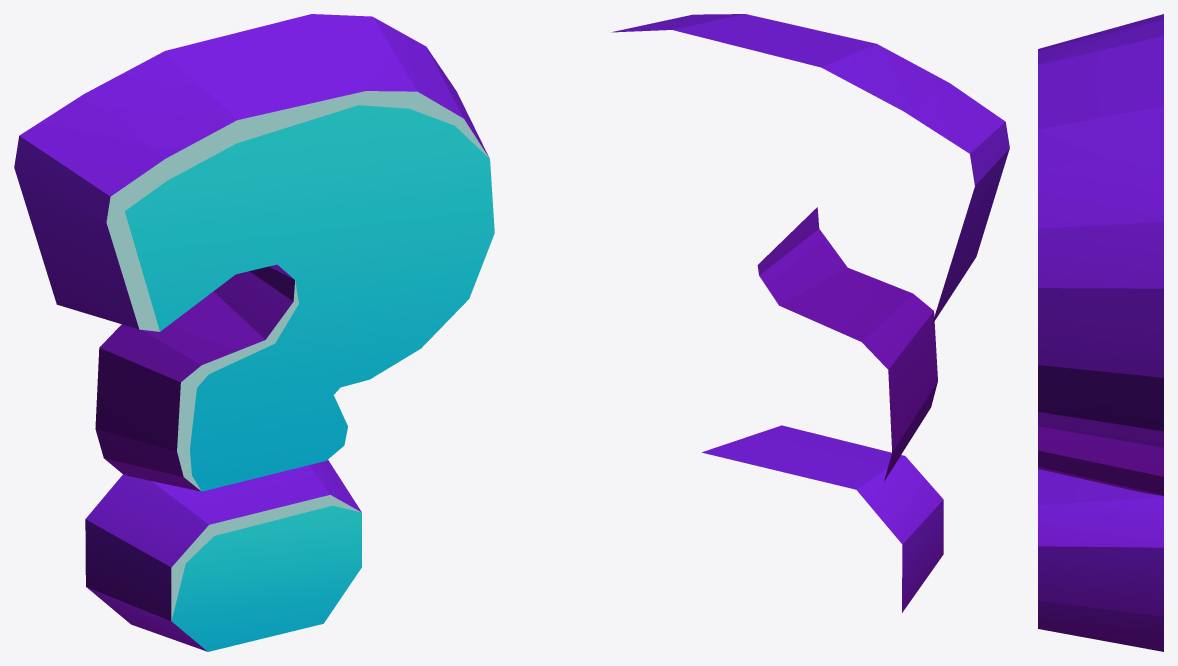
File: QuestionMarkIcon.glb
3 views of the same model, side by side, from view 1: azimuth 30°, elevation 25°; view 2: azimuth 150°, elevation 25°; view 3: azimuth 270°, elevation 25° (orthographic). The views are drawn at different scales.
Parts seen in each view (by area): view 1: QuestionMarkIcon; view 2: QuestionMarkIcon; view 3: QuestionMarkIcon.
Part boxes in pixels (<box>): QuestionMarkIcon: <box>14,14,494,651</box>; QuestionMarkIcon: <box>612,14,1009,612</box>; QuestionMarkIcon: <box>1038,14,1163,651</box>.
Size of the model in its own units: 35.11 by 42.91 by 8.68.
1 material, 1 textured.
